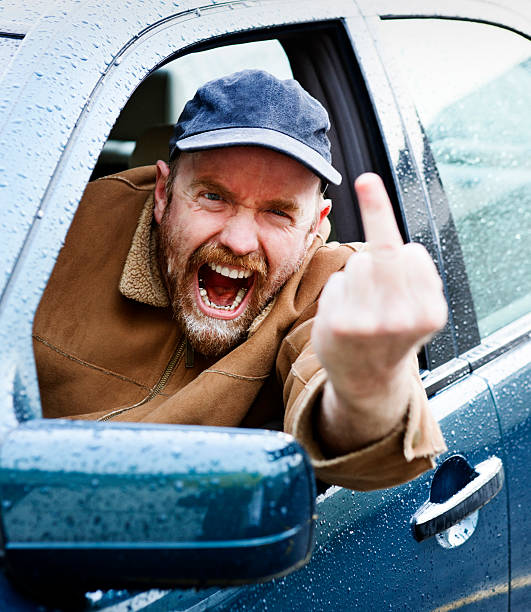insulting_gesture: (309, 171, 451, 419)
